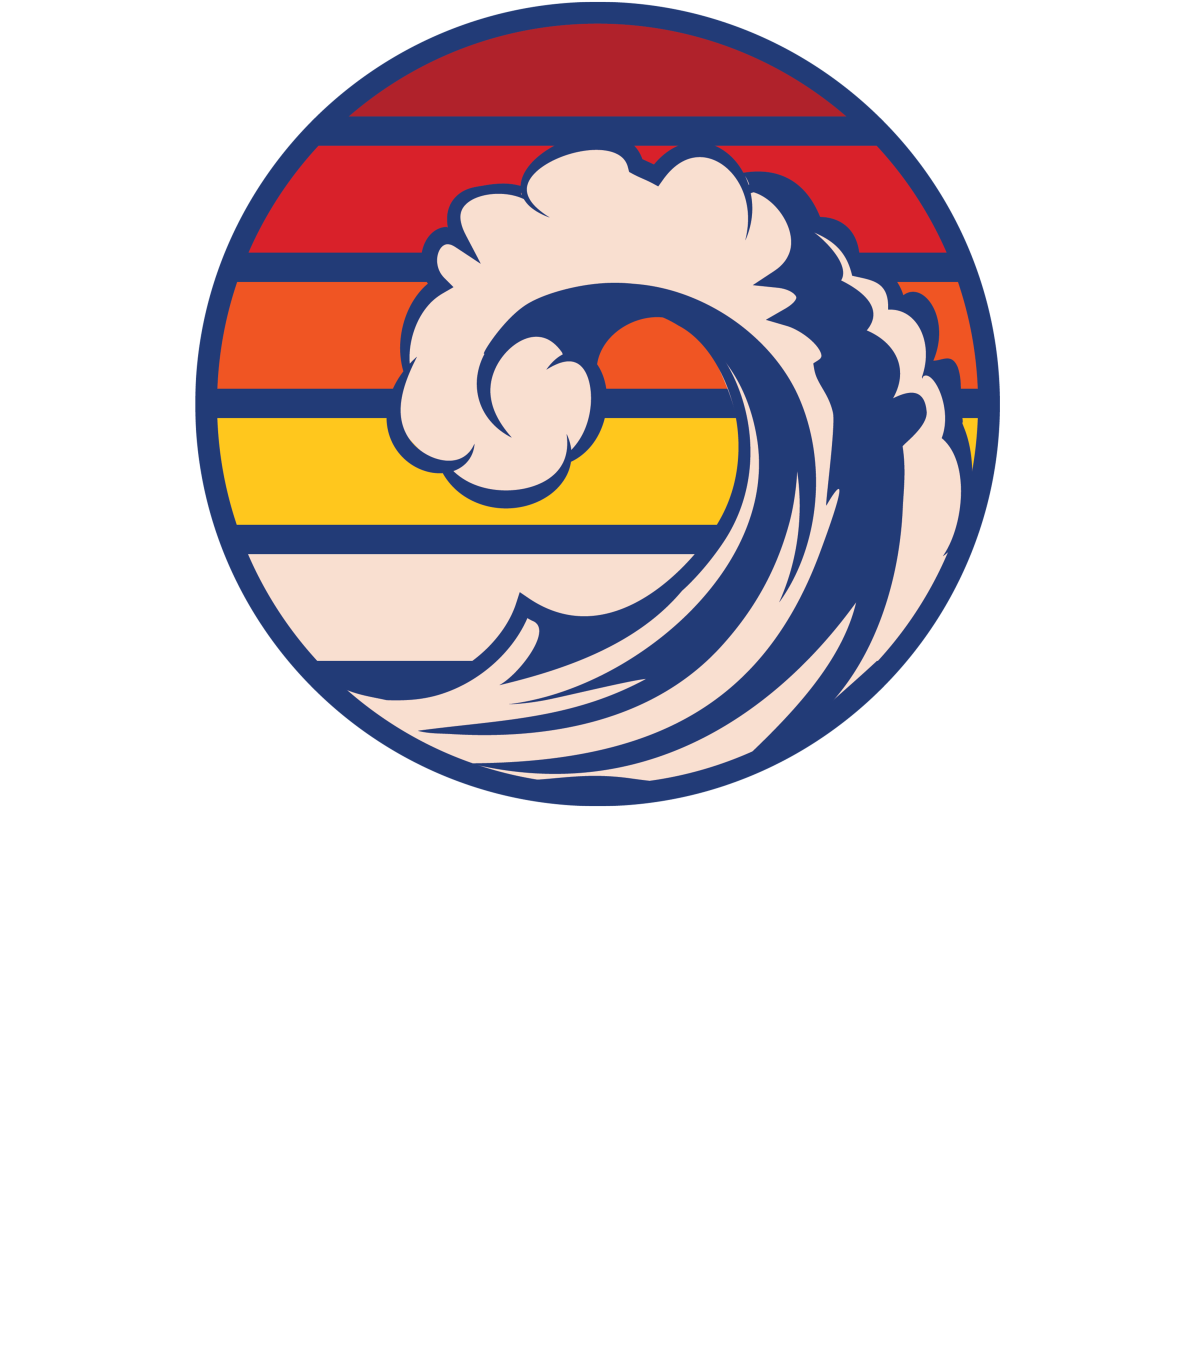design: (178, 1, 1020, 824)
